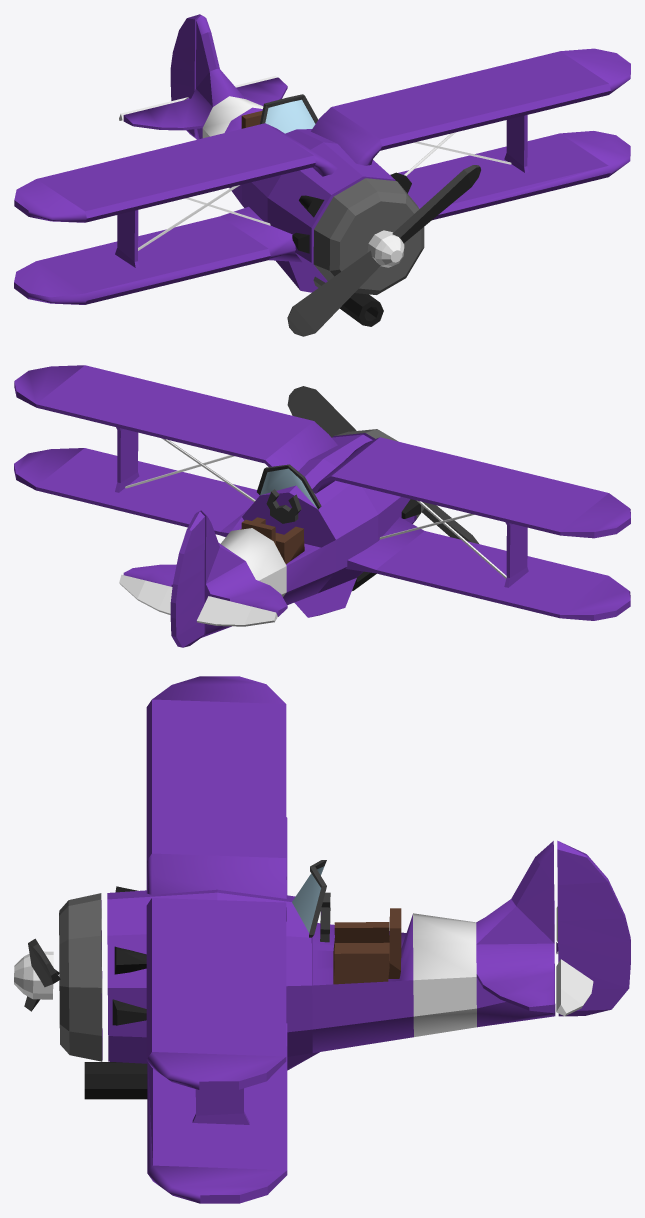
File: Enemy_Plane.glb
3 views of the same model, one above another, from view 1: azimuth 30°, elevation 25°; view 2: azimuth 150°, elevation 25°; view 3: azimuth 270°, elevation 25° (orthographic). The views are drawn at different scales.
Parts seen in each view (by area): view 1: airplne body, propellor, tail; view 2: airplne body, tail, propellor, right rudder, left rudder; view 3: airplne body, tail, propellor, left rudder.
Part boxes in pixels (x1,y1,x2,y2): airplne body: (14, 15, 630, 326); propellor: (287, 165, 480, 336); tail: (170, 14, 204, 138); airplne body: (14, 365, 630, 637); tail: (170, 511, 204, 647); propellor: (287, 386, 479, 544); right rudder: (197, 596, 277, 626); left rudder: (119, 574, 172, 614); airplne body: (59, 676, 558, 1203); tail: (557, 840, 630, 1016); propellor: (14, 938, 60, 1011); left rudder: (556, 959, 593, 1016).
Size of the model in its own units: 3.78 by 1.15 by 2.43.
Materials: 5 (5 with a texture image).
